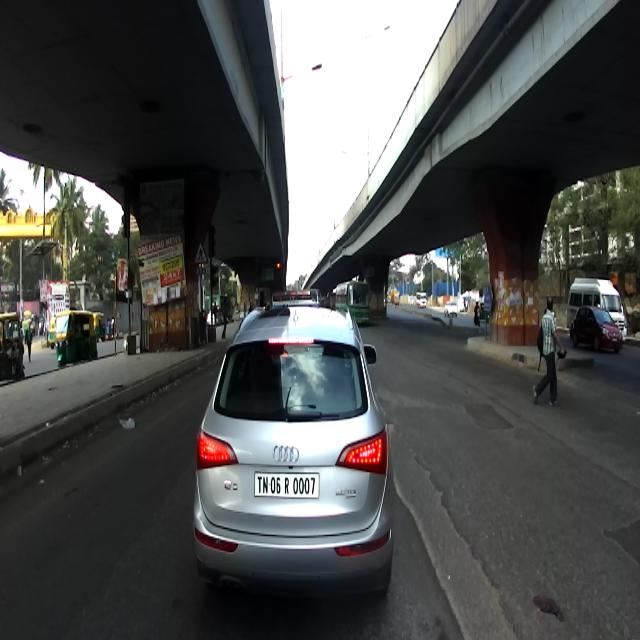car ahead at: (203, 296, 390, 596)
person ahead at: (534, 289, 563, 415)
